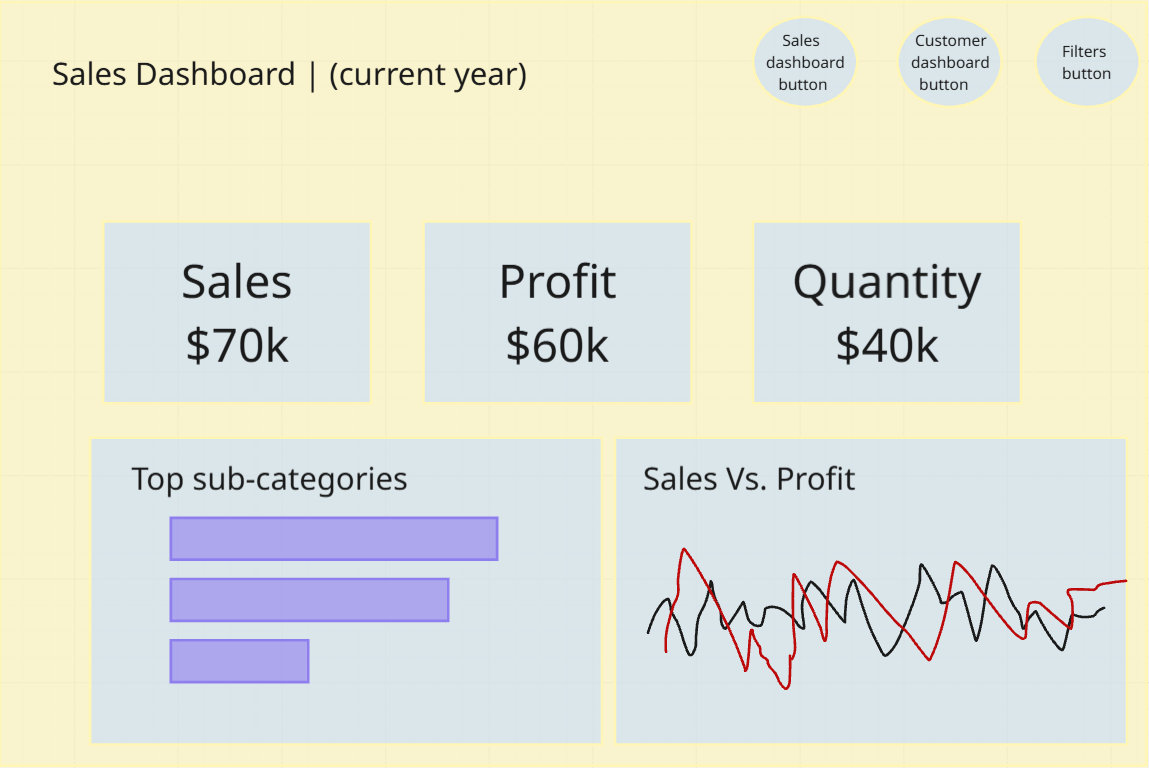

This screenshot's page, from the dashboard's own definition file:
{"tool":"tableau","page":{"name":"Sales Dashboard","canvas":[1000,1000],"units":"permille","ordinal":1},"visuals":[{"type":"image","param":"Image/Icon - Logo.png","box":[8.5,17.3,60.4,91.2]},{"type":"text","box":[69,17.3,576.3,91.2]},{"type":"dashboard-object","box":[645.3,17.3,115.4,91.2]},{"type":"dashboard-object","box":[760.7,17.3,115.4,91.2]},{"type":"dashboard-object","box":[876.1,17.3,115.4,91.2]},{"type":"worksheet","title":"Legend KPI","mark":"Automatic","box":[8.5,108.5,982.9,70.3]},{"type":"blank","box":[837.5,146.1,143.5,36.3]},{"type":"worksheet","title":"KPI Sales","mark":"Automatic","cols":["Order Date"],"box":[8.5,178.8,327.6,366.2]},{"type":"worksheet","title":"KPI Profit","mark":"Line","rows":["Calculation_744501332859613186"],"cols":["Order Date"],"box":[336.2,178.8,327.6,366.2]},{"type":"worksheet","title":"KPI Quantity","mark":"Line","rows":["Calculation_1055812657446469636"],"cols":["Order Date"],"box":[663.8,178.8,327.6,366.2]},{"type":"text","box":[837.5,182.4,143.5,35.2]},{"type":"parameter","param":"[Parameters].[Parameter 1]","box":[837.5,217.6,143.5,100.7]},{"type":"blank","box":[837.5,318.4,143.5,32.2]},{"type":"text","box":[837.5,350.6,143.5,32.2]},{"type":"filter","title":"KPI Sales","param":"[federated.0frvgzx0eys0rh1dhm0pi0f6z8i7].[none:Category:nk]","box":[837.5,382.8,143.5,61.4]},{"type":"filter","title":"KPI Sales","param":"[federated.0frvgzx0eys0rh1dhm0pi0f6z8i7].[none:Sub-Category:nk]","box":[837.5,444.2,143.5,61.4]},{"type":"text","box":[837.5,505.7,143.5,33.2]},{"type":"filter","title":"KPI Sales","param":"[federated.0frvgzx0eys0rh1dhm0pi0f6z8i7].[none:Region:nk]","box":[837.5,538.9,143.5,61.4]},{"type":"text","box":[17.7,563.5,474.4,39.5]},{"type":"text","box":[510.4,563.5,471.9,38.2]},{"type":"filter","title":"KPI Sales","param":"[federated.0frvgzx0eys0rh1dhm0pi0f6z8i7].[none:City:nk]","box":[837.5,600.3,143.5,61.4]},{"type":"text","box":[510.4,601.7,471.9,38.4]},{"type":"worksheet","title":"Legend subcategory","mark":"Automatic","box":[17.7,602.9,290,49.3]},{"type":"text","box":[307.7,602.9,184.4,49.3]},{"type":"worksheet","title":"Weekly Trends","mark":"Automatic","rows":["Calculation_1078049179717033986","Calculation_744501332850692096"],"cols":["Order Date"],"box":[510.4,640.1,471.9,324.1]},{"type":"worksheet","title":"Subcategory Comparsion","mark":"Bar","rows":["Sub-Category","Calculation_271623372632522752"],"cols":["Calculation_1078049179717885955","Calculation_1078049179717033986","Calculation_744501332850692096"],"box":[17.7,652.3,474.4,311.9]},{"type":"filter","title":"KPI Sales","param":"[federated.0frvgzx0eys0rh1dhm0pi0f6z8i7].[none:State:nk]","box":[837.5,661.8,143.5,61.4]}]}

Visuals, with their boxes on the dashboard's canvas, which has no fixed pixel size, in thousandths of its width and height (x1, y1, x2, y2). These are canvas units, not pixel positions in the 1149x768 screenshot, which may show the page scaled, cropped or inside an application window:
image: Rect(8, 17, 69, 108)
text: Rect(69, 17, 645, 108)
dashboard-object: Rect(645, 17, 761, 108)
dashboard-object: Rect(761, 17, 876, 108)
dashboard-object: Rect(876, 17, 992, 108)
"Legend KPI" worksheet: Rect(8, 108, 991, 179)
blank: Rect(838, 146, 981, 182)
"KPI Sales" worksheet: Rect(8, 179, 336, 545)
"KPI Profit" worksheet (Line marks): Rect(336, 179, 664, 545)
"KPI Quantity" worksheet (Line marks): Rect(664, 179, 991, 545)
text: Rect(838, 182, 981, 218)
parameter: Rect(838, 218, 981, 318)
blank: Rect(838, 318, 981, 351)
text: Rect(838, 351, 981, 383)
"KPI Sales" filter: Rect(838, 383, 981, 444)
"KPI Sales" filter: Rect(838, 444, 981, 506)
text: Rect(838, 506, 981, 539)
"KPI Sales" filter: Rect(838, 539, 981, 600)
text: Rect(18, 564, 492, 603)
text: Rect(510, 564, 982, 602)
"KPI Sales" filter: Rect(838, 600, 981, 662)
text: Rect(510, 602, 982, 640)
"Legend subcategory" worksheet: Rect(18, 603, 308, 652)
text: Rect(308, 603, 492, 652)
"Weekly Trends" worksheet: Rect(510, 640, 982, 964)
"Subcategory Comparsion" worksheet (Bar marks): Rect(18, 652, 492, 964)
"KPI Sales" filter: Rect(838, 662, 981, 723)
